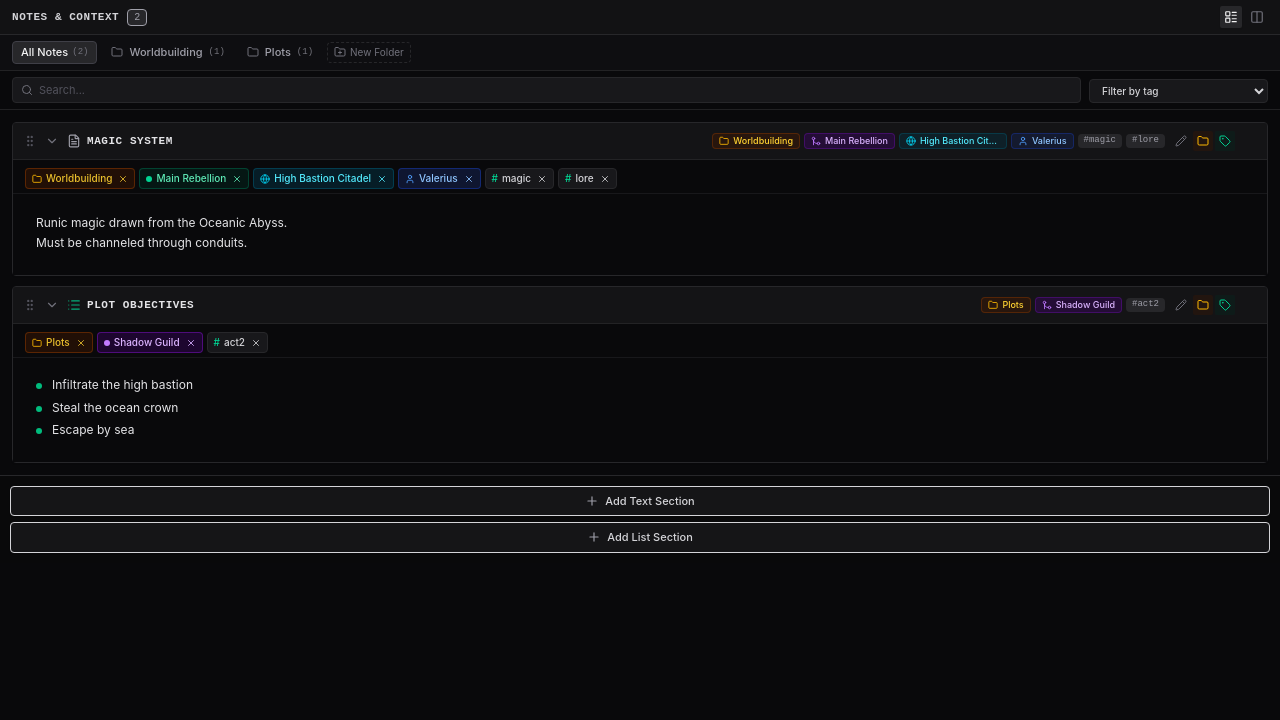
Test: ContextPanel and ContextBlockItem (Notes View) › renders a much larger expanded textarea when editing notes (min-h-[260px])
This screenshot has width=1280, height=720.
// Click note to enter editing
What coordinates should you click on to do the following:
click the text "Runic magic drawn from the Oceanic Abyss"
I would click on:
 (162, 232)
Its box is [36,215,287,250].
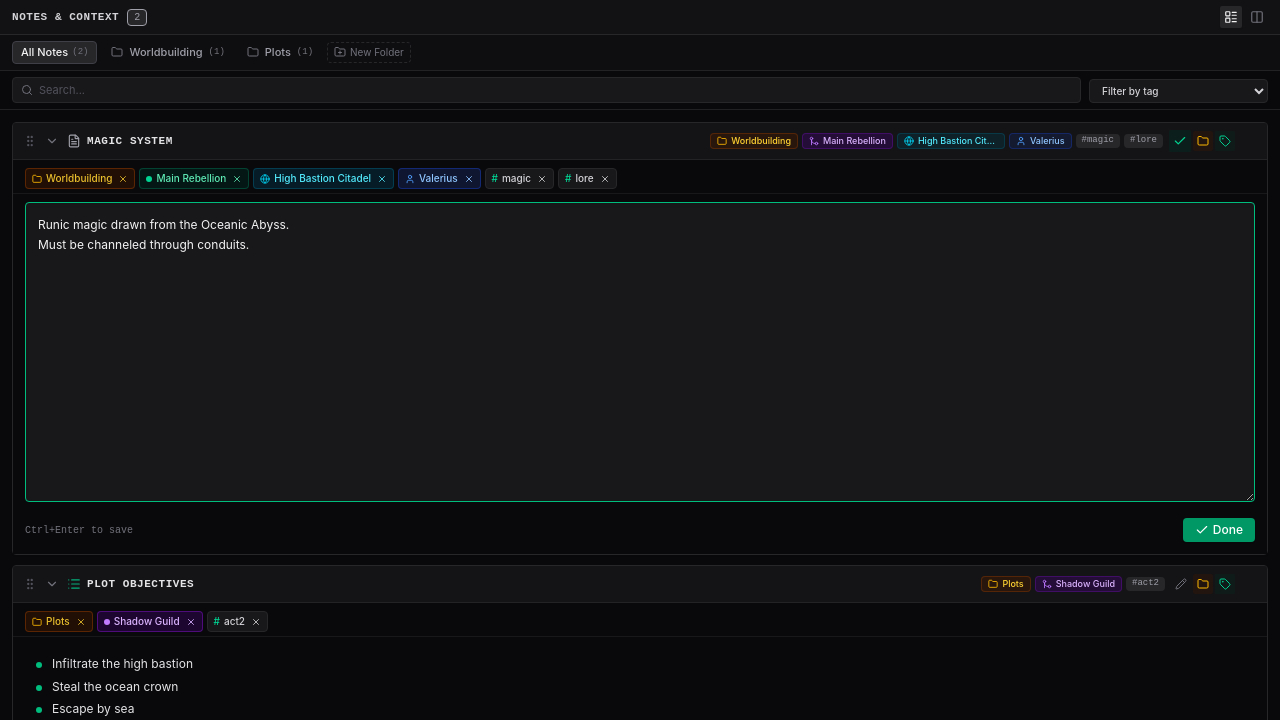
Check: the text box with placeholder "Write section notes" is shown, box [25,202,1255,502]
